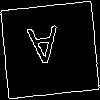A: (25, 25, 61, 75)
